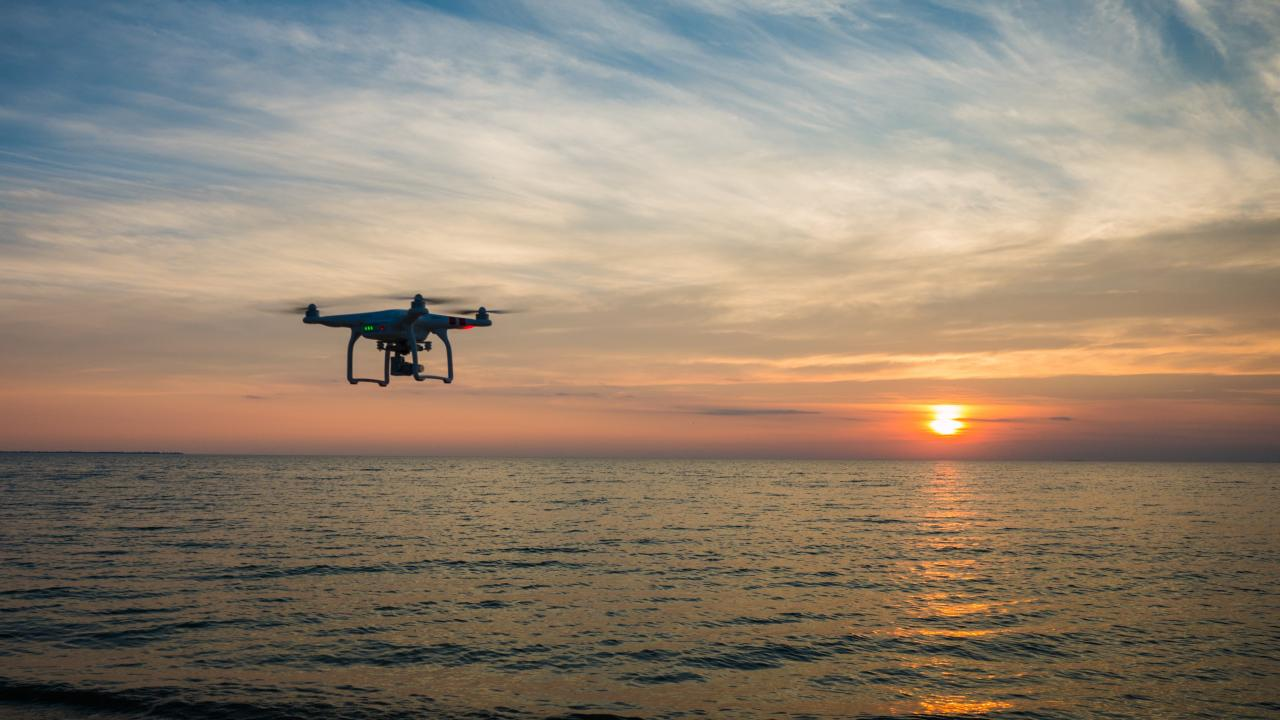Drone: (243, 278, 537, 408)
